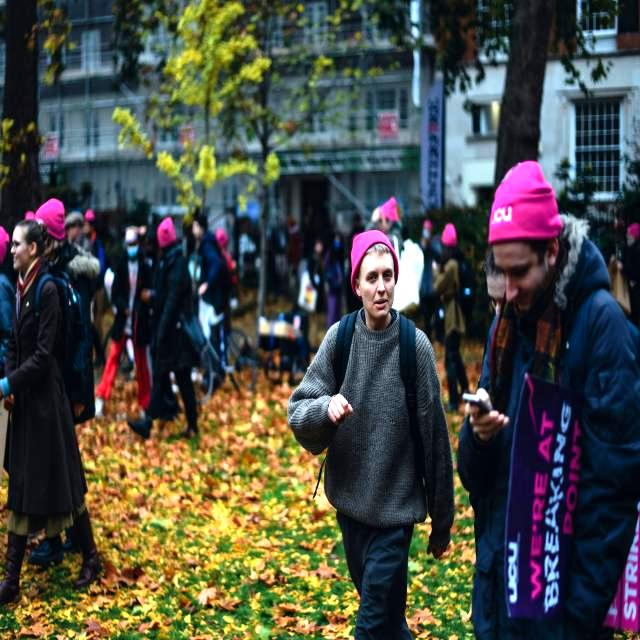no_hard_hat: (488, 161, 562, 245), (351, 230, 399, 295)
no_head_wear: (15, 219, 48, 255)
person: (458, 161, 640, 640), (288, 230, 454, 640), (0, 219, 101, 605)
